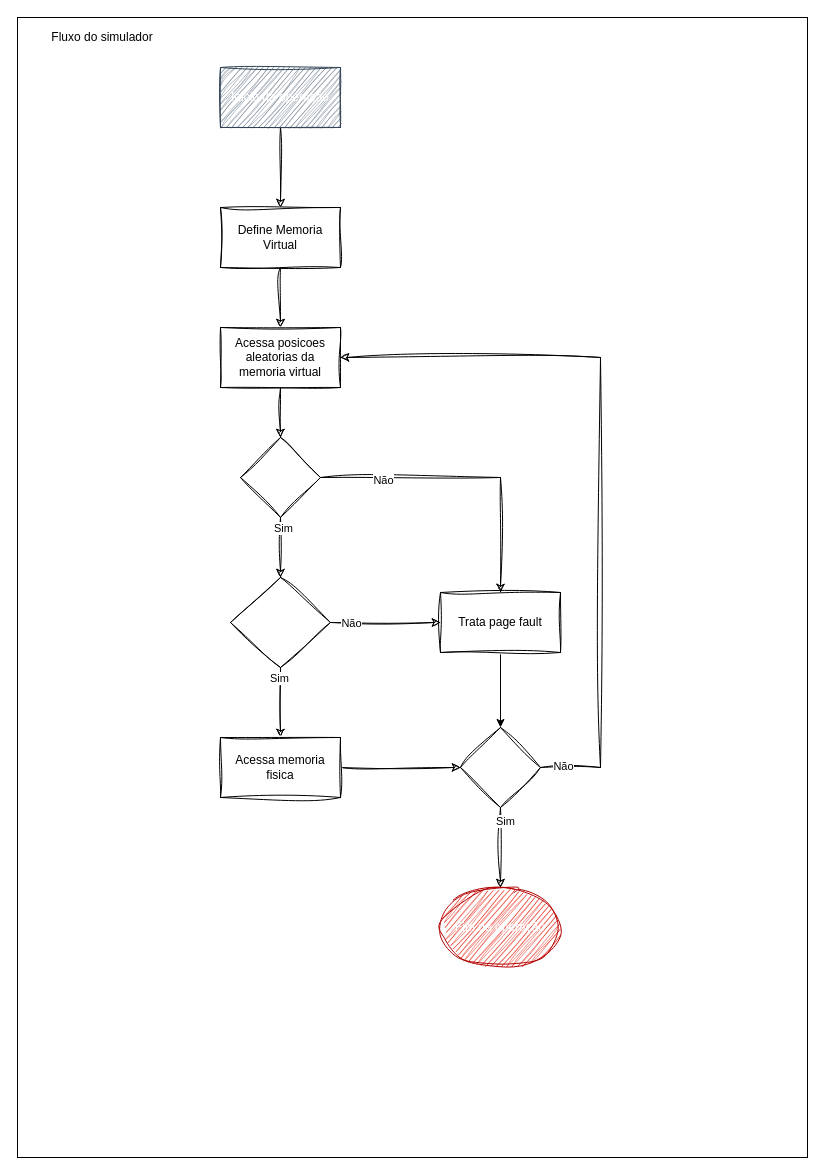
Some shapes in this 825 by 1175 pixel diagram are drawn without their labels. Here are the shapes that lost their labels. From the top down, the centre of each, then its label:
At point (280, 477): "Foi alocado algo na memoria fisica?".
At point (280, 622): "Tabela de referencia com posicoes corretas?".
At point (500, 767): "Rodou N vezes?".
